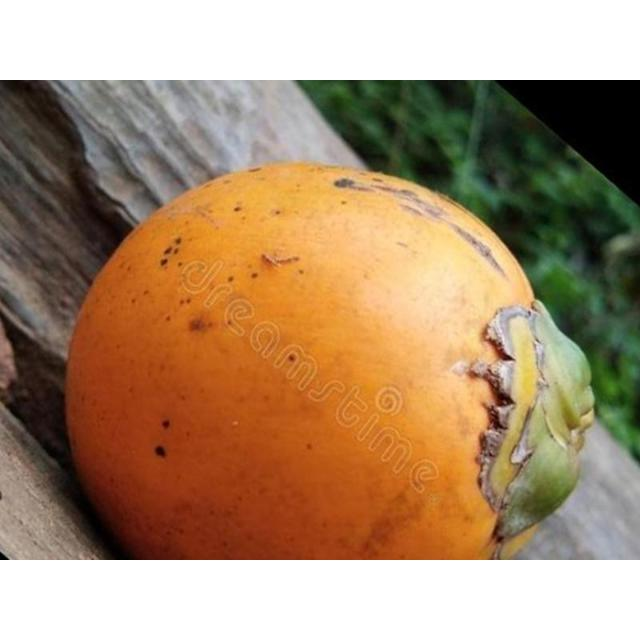good: (62, 162, 639, 559)
